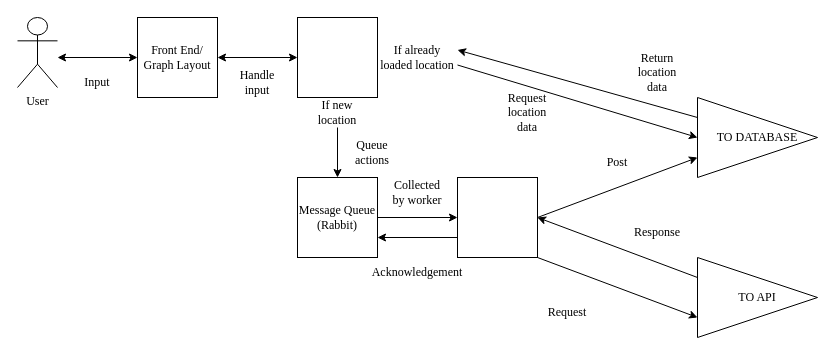
The diagram is 835 pixels wide and 355 high, and some of its shapes have lost their labels. The shapes that lost their labels are listed below. From the top down, each one's centre as x and y in pixels, then its label:
At (x=337, y=57): "Request Handler".
At (x=497, y=217): "Worker".
